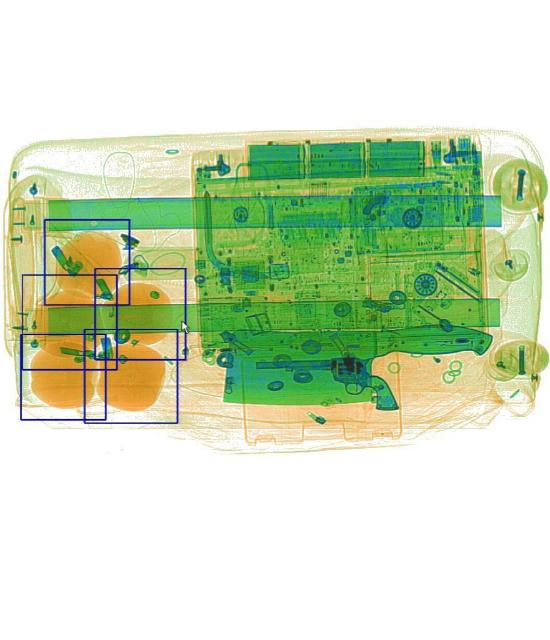Gun: (253, 352, 401, 416)
Knife: (222, 324, 491, 404)
